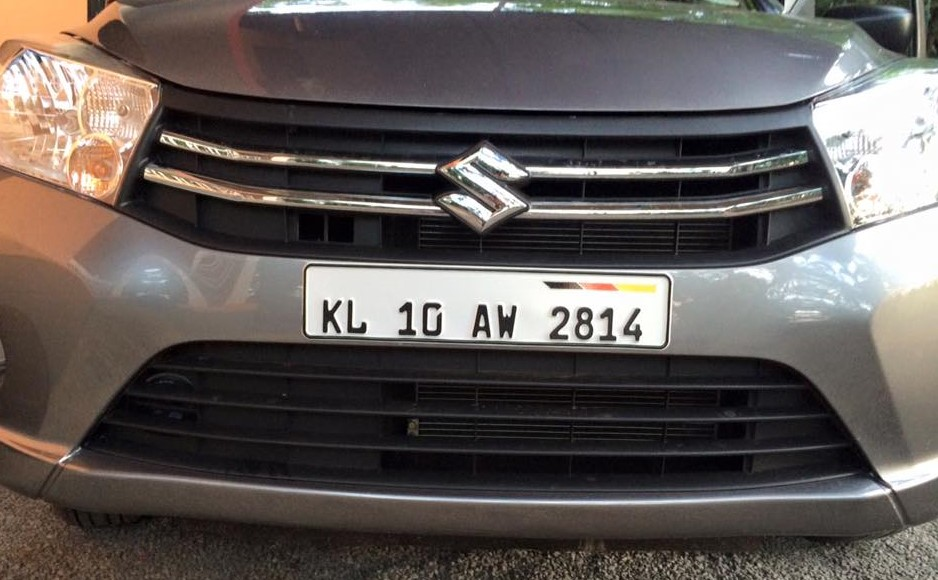KL10AW2814: (304, 263, 673, 347)
